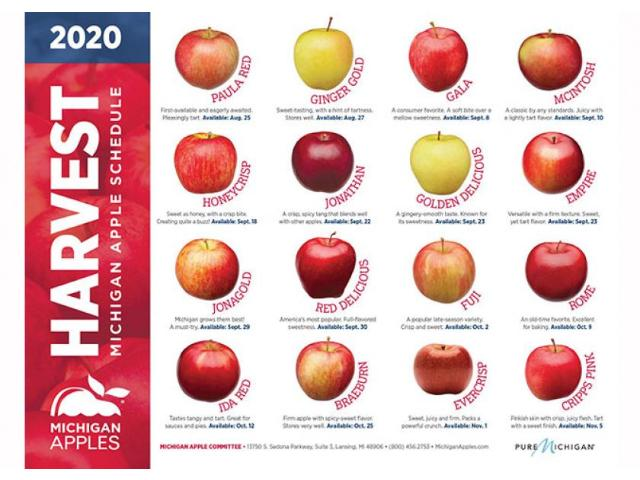red apple: (176, 238, 242, 300), (521, 131, 585, 193), (175, 132, 239, 193), (178, 341, 243, 401), (414, 240, 476, 302), (176, 29, 240, 89), (296, 234, 356, 298), (293, 132, 354, 193), (409, 27, 468, 90), (526, 242, 589, 300), (520, 33, 584, 90), (298, 339, 355, 399), (526, 344, 583, 400), (414, 343, 472, 397)
